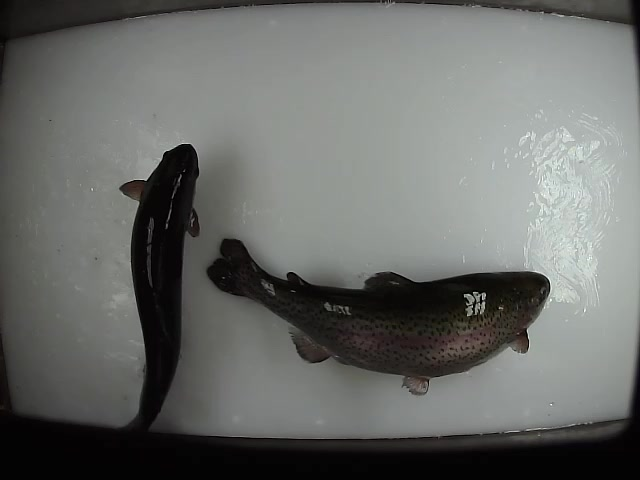fish: (203, 236, 553, 398), (119, 140, 202, 429)
